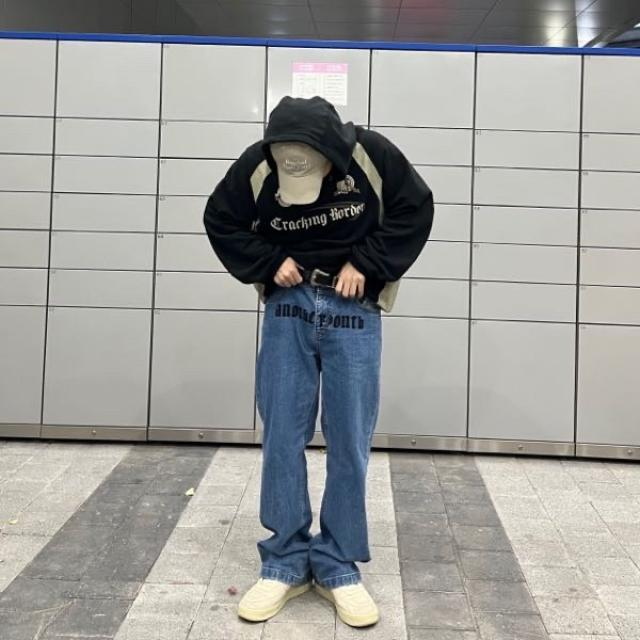denimpants: (255, 279, 382, 586)
hoodies: (202, 95, 435, 302)
